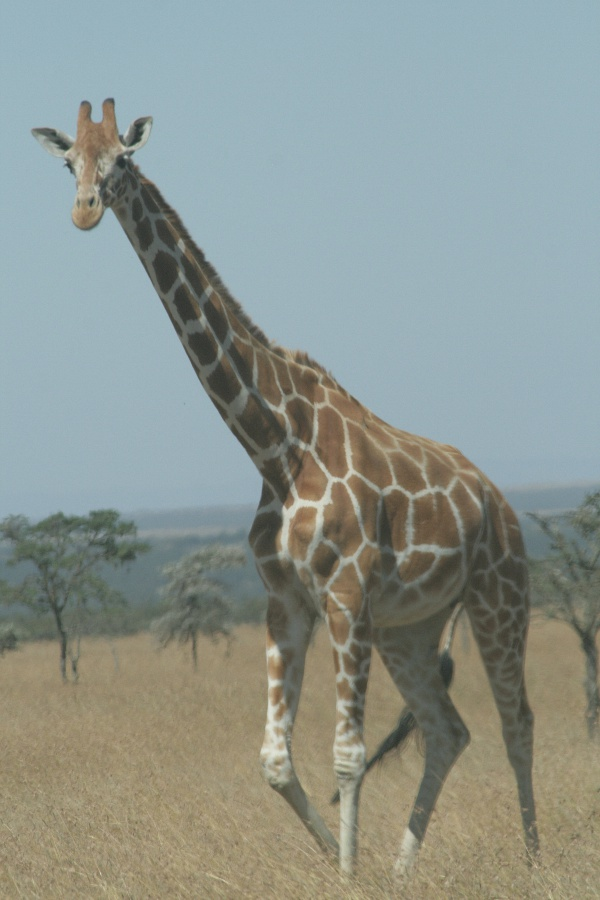giraffe: (23, 83, 559, 882)
